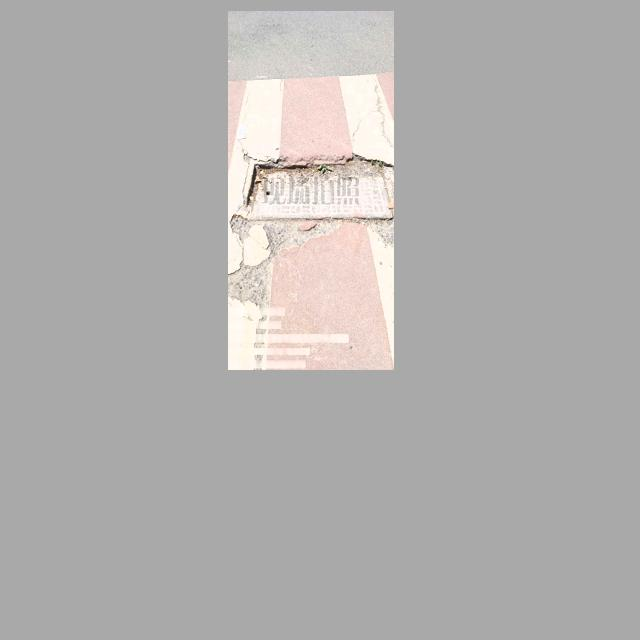circle: (241, 160, 394, 223)
